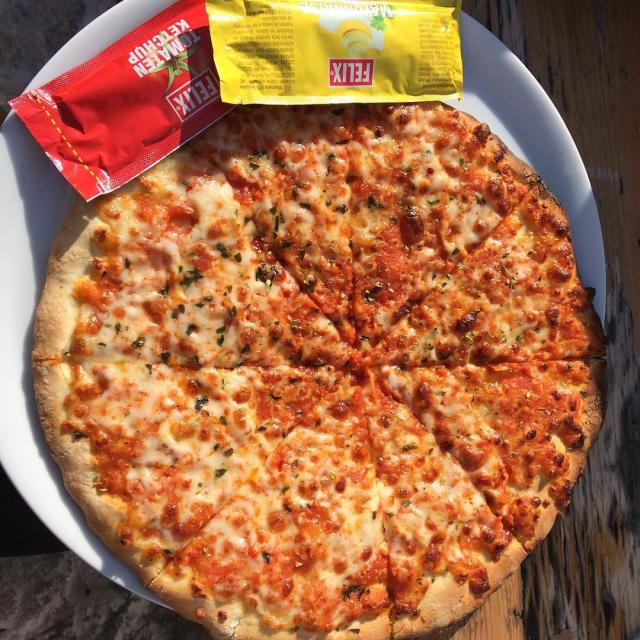pizza: (35, 104, 605, 640)
